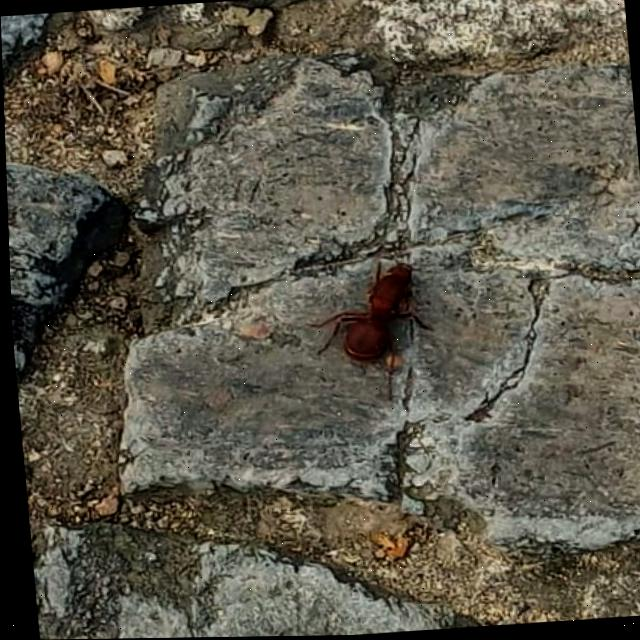Alive-Female-Dealate: (296, 252, 438, 408)
